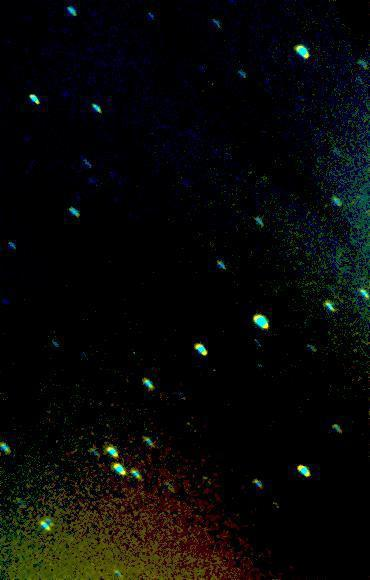star: (248, 161, 278, 191)
